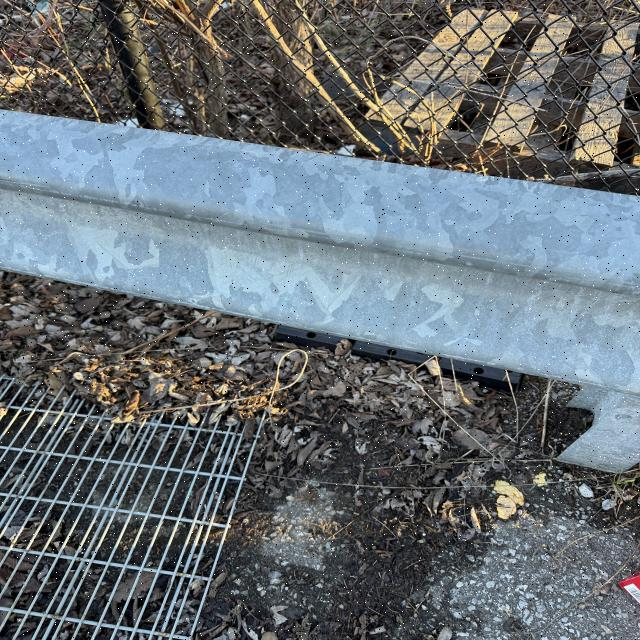Guard rail: (1, 126, 612, 352)
